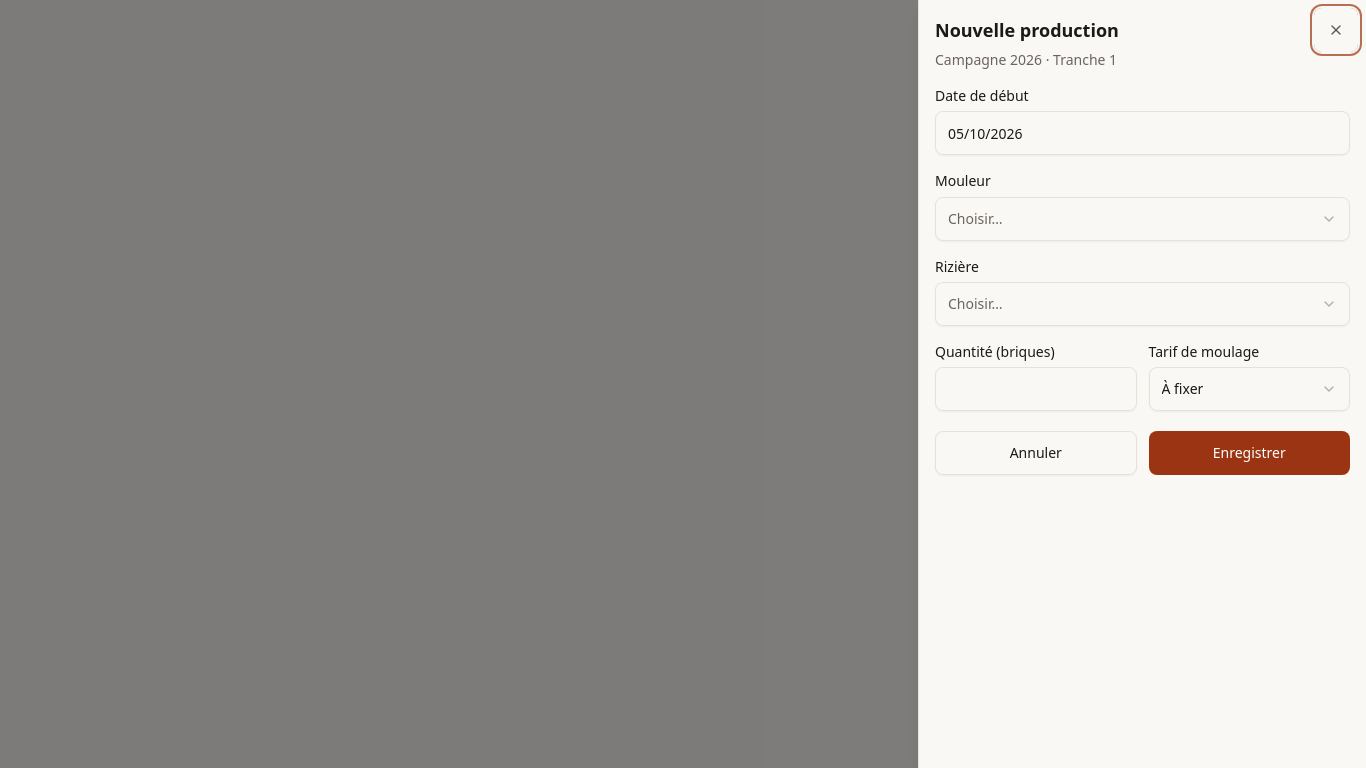
NewProductionPage › puts a value the API refuses under the field it names
Click the dropdown labelled "Choisir…" below "Mouleur" at {"x": 975, "y": 218}, box [935,196,1350,240]
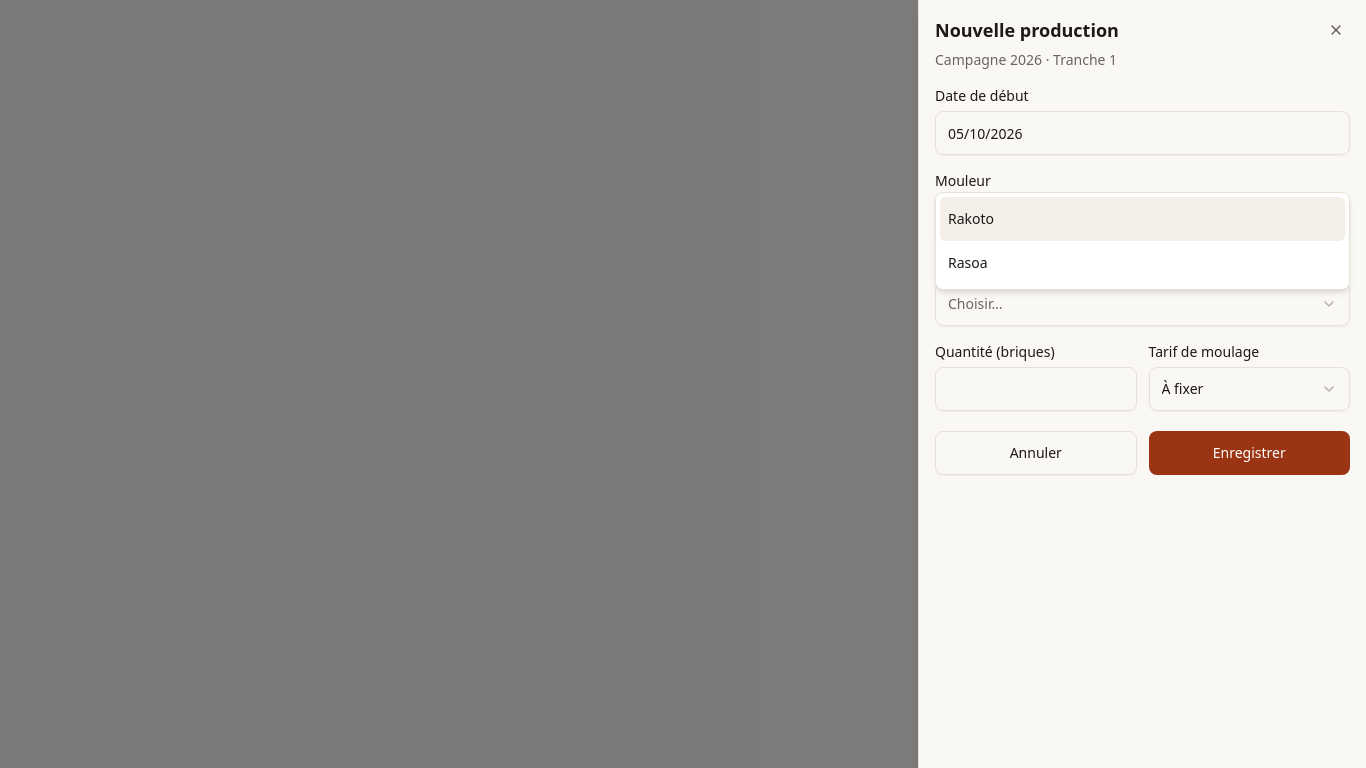
Click the option "Rakoto" at {"x": 971, "y": 218}, box [940,196,1345,240]
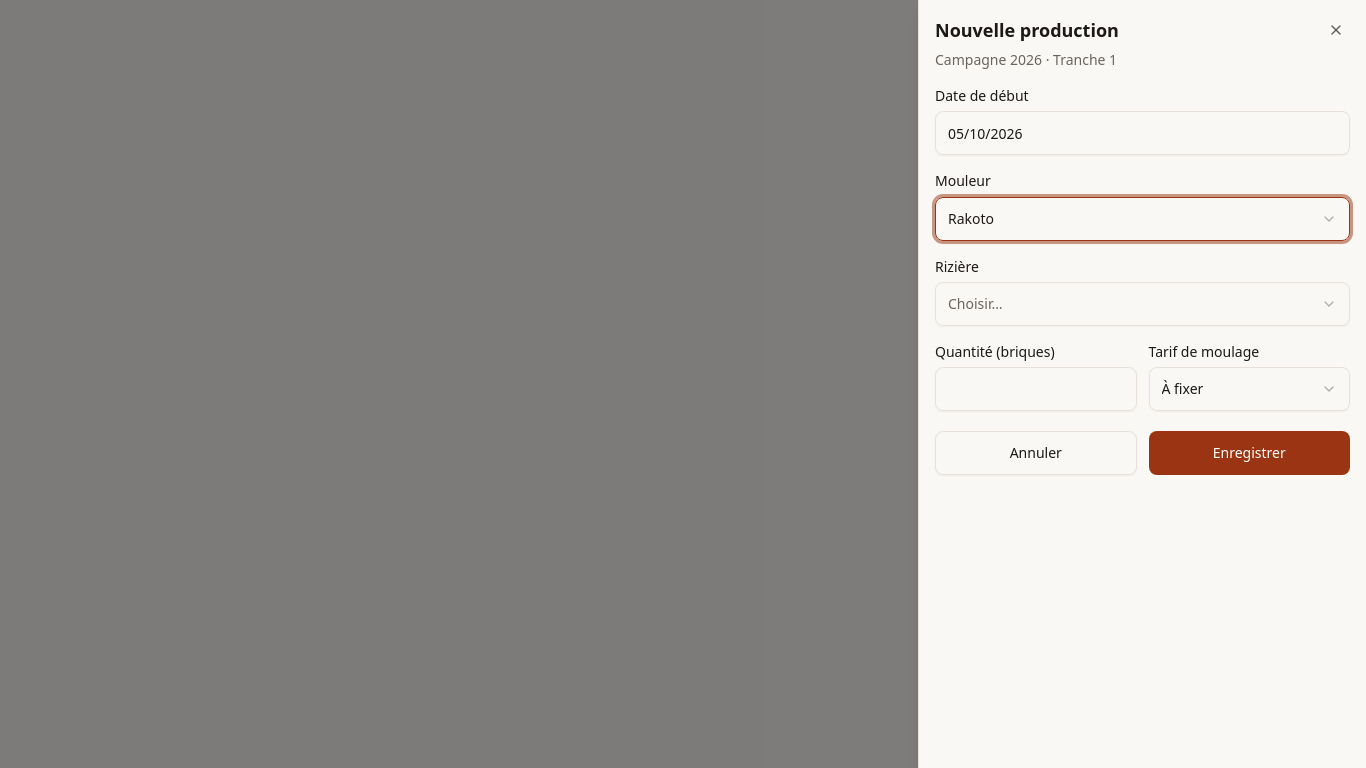
Click the dropdown named "Rizière" at {"x": 975, "y": 303}, box [935,282,1350,326]
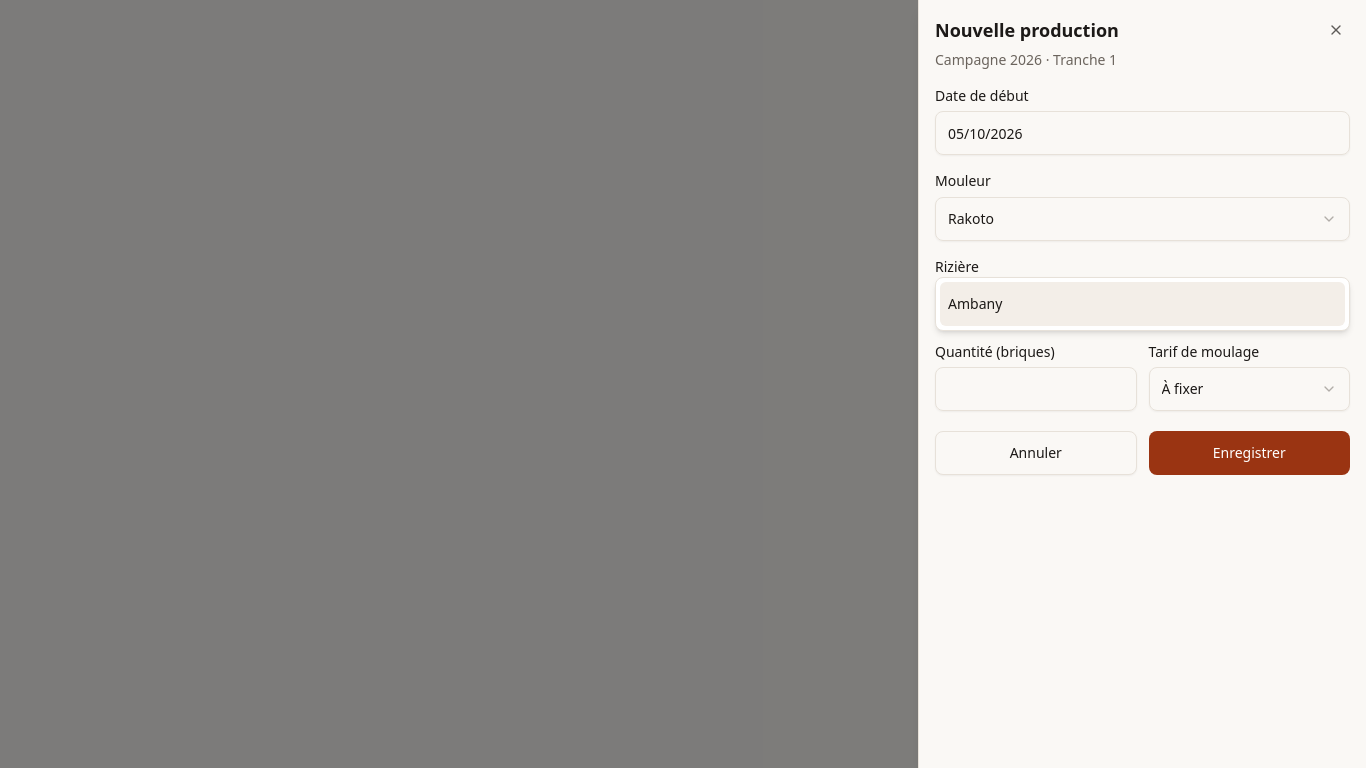
Click the option "Ambany" at {"x": 975, "y": 303}, box [940,282,1345,326]
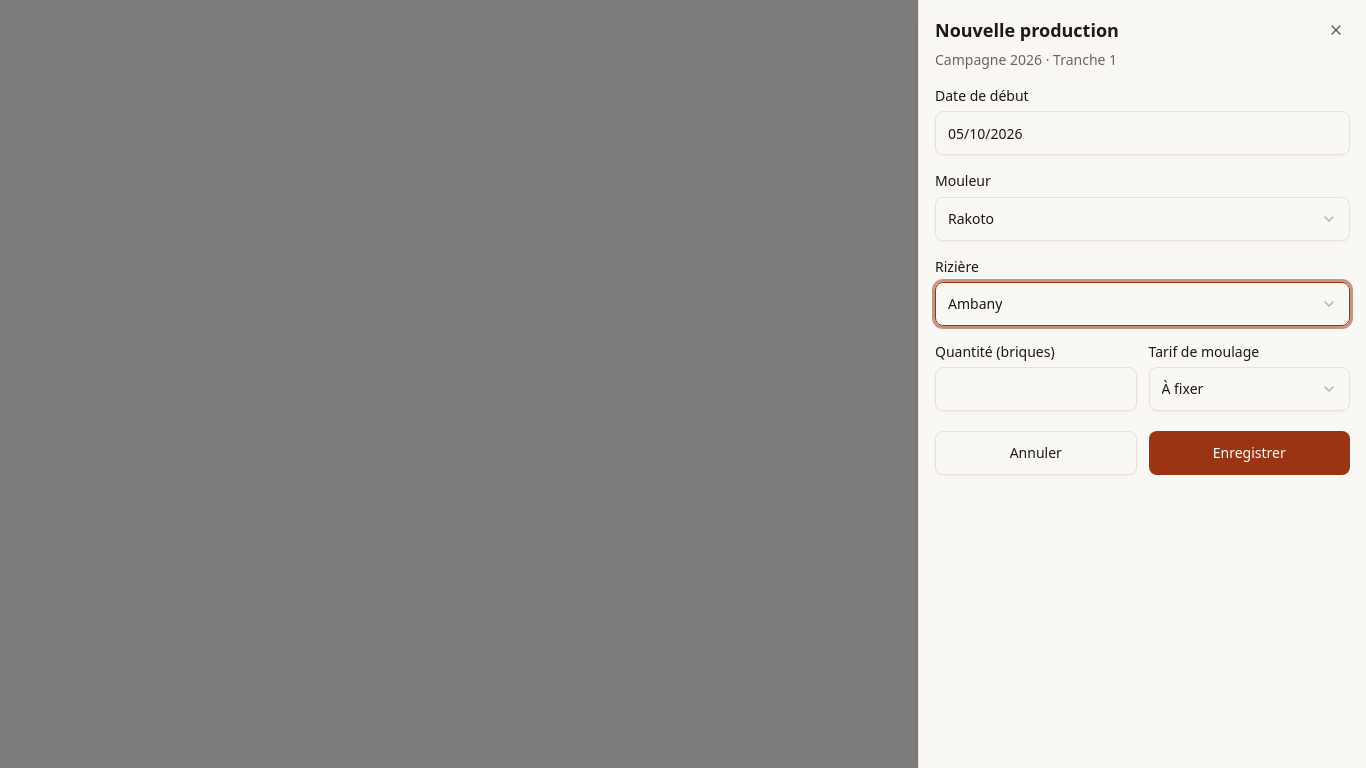
Type "500" into the field labelled "Quantité (briques)" at {"x": 1036, "y": 389}, box [935,367,1136,411]
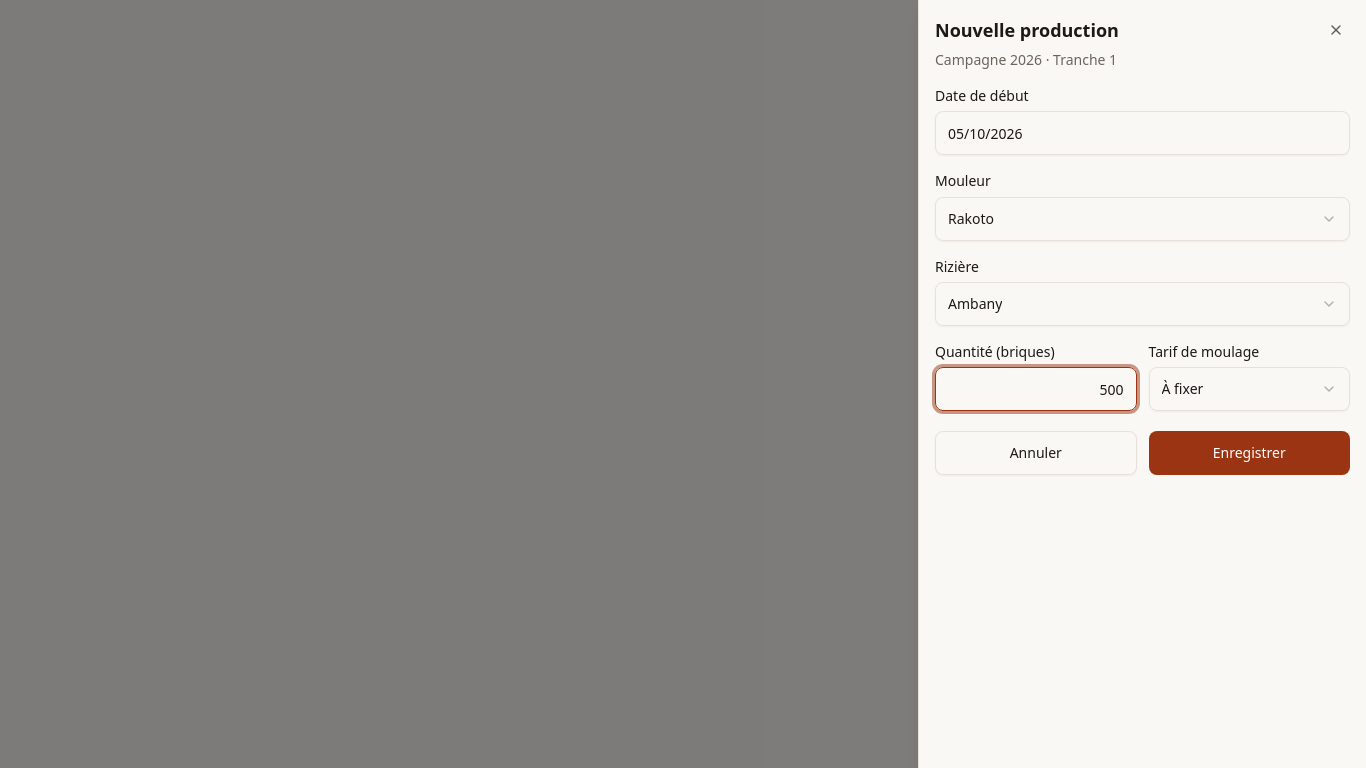
Click the button "Enregistrer" at {"x": 1249, "y": 453}, box [1148,431,1350,475]
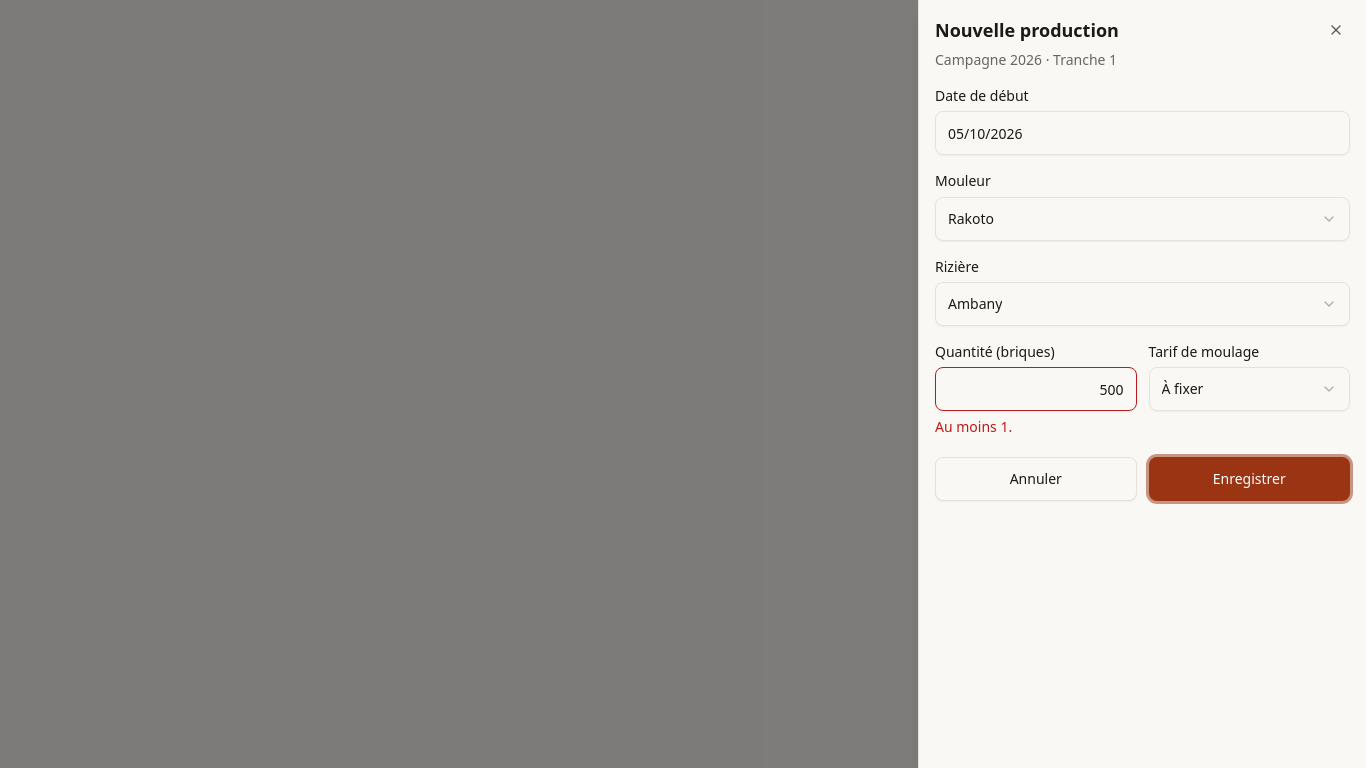
expect the message reads "Au moins 1.": met, box [935,417,1012,436]
